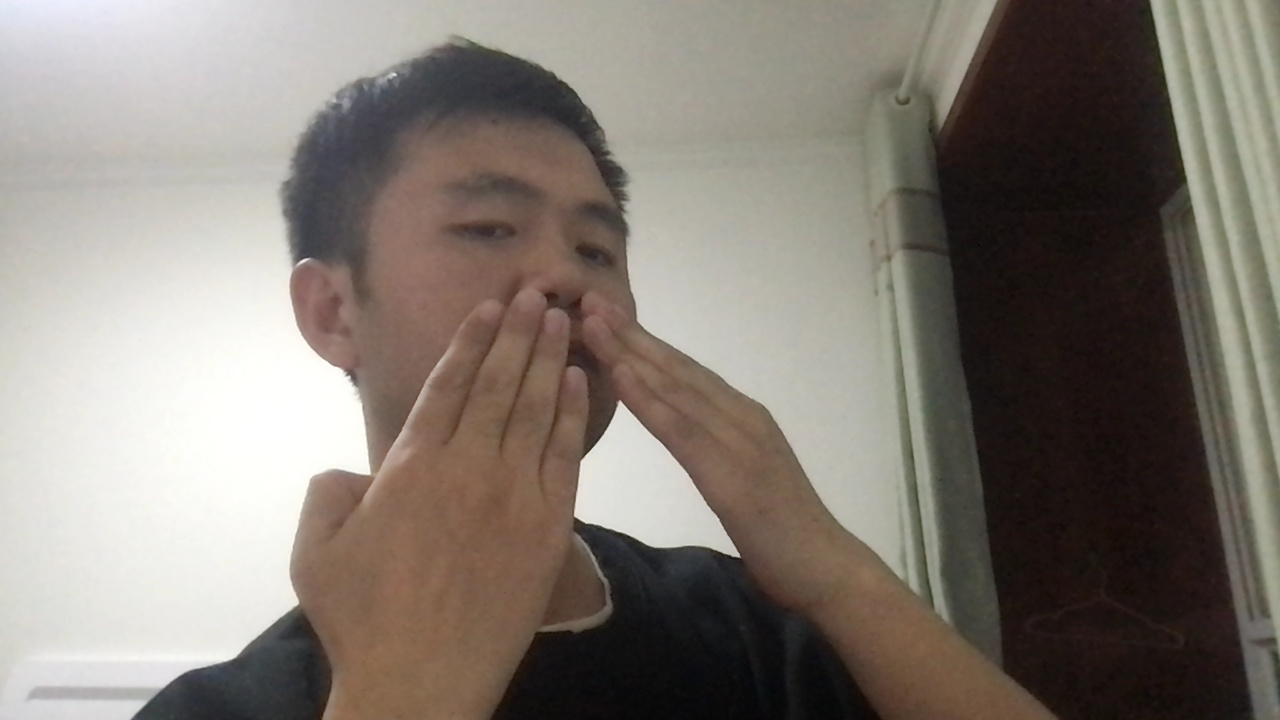thanks: (279, 291, 914, 651)
